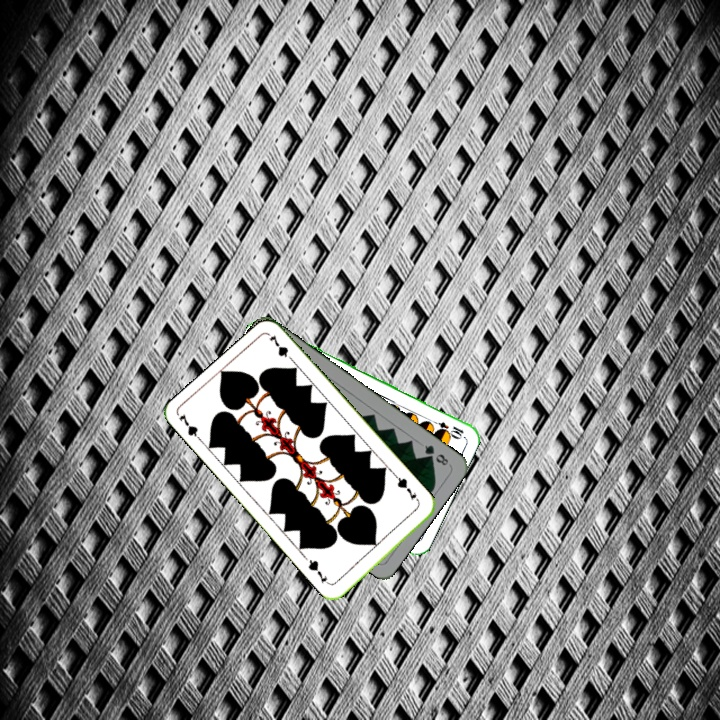E10: (427, 416, 466, 440)
G7: (174, 409, 206, 446), (392, 472, 419, 502)
G8: (420, 441, 451, 468)
